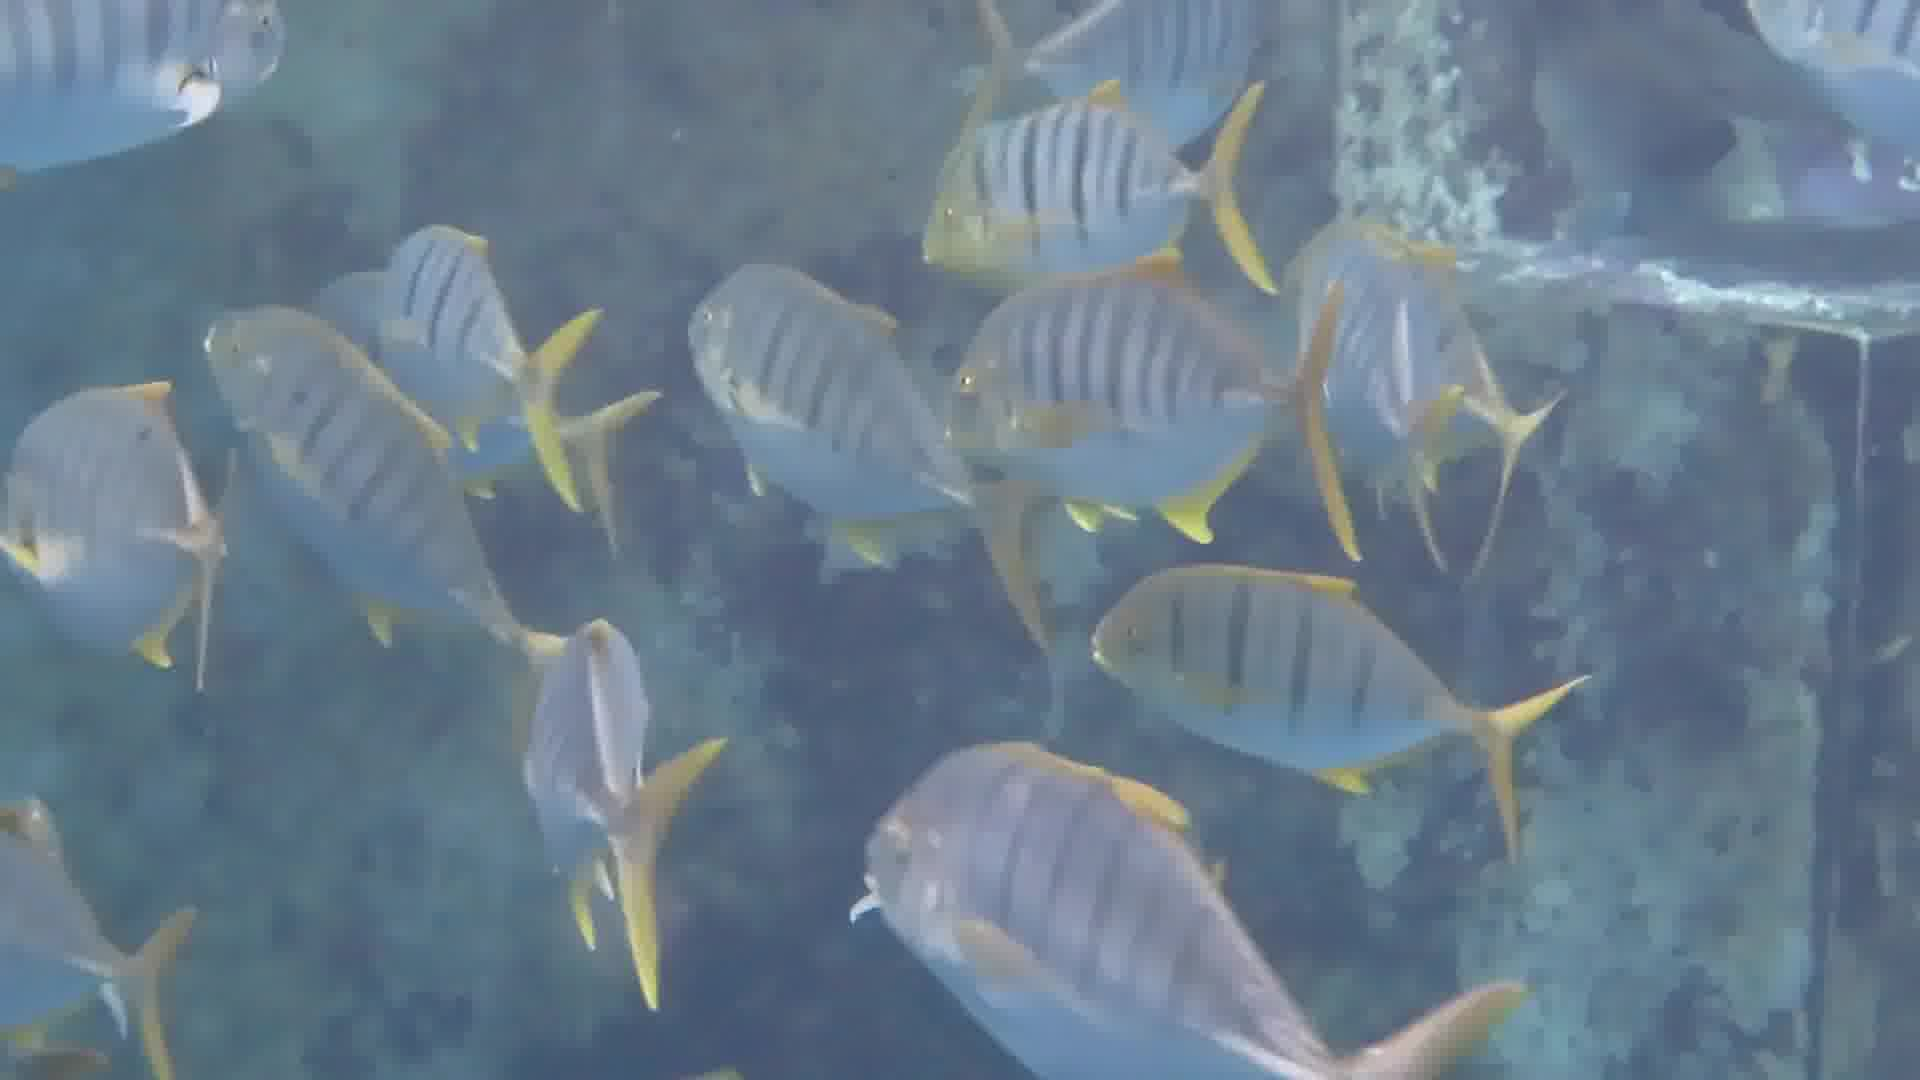Gnathanodon speciosus: (878, 750, 1476, 1080), (1079, 559, 1582, 829), (684, 245, 1029, 625), (949, 285, 1393, 555), (193, 286, 520, 640), (910, 65, 1298, 291)
